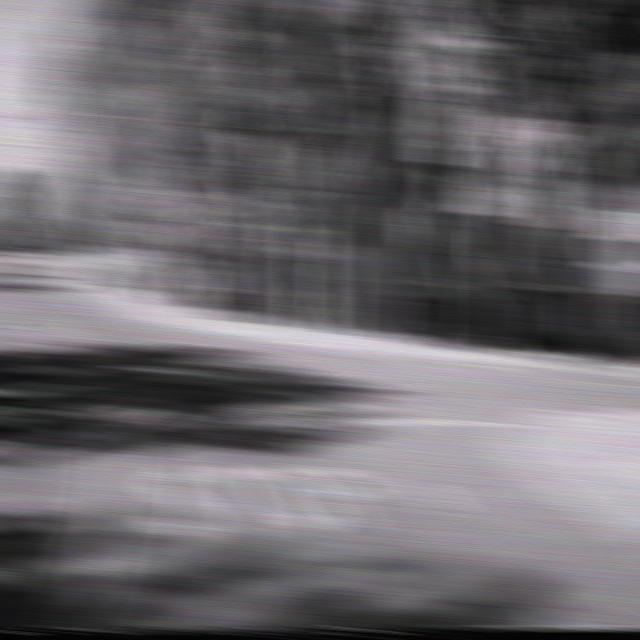pedestrianCrossing: (134, 219, 170, 248)
